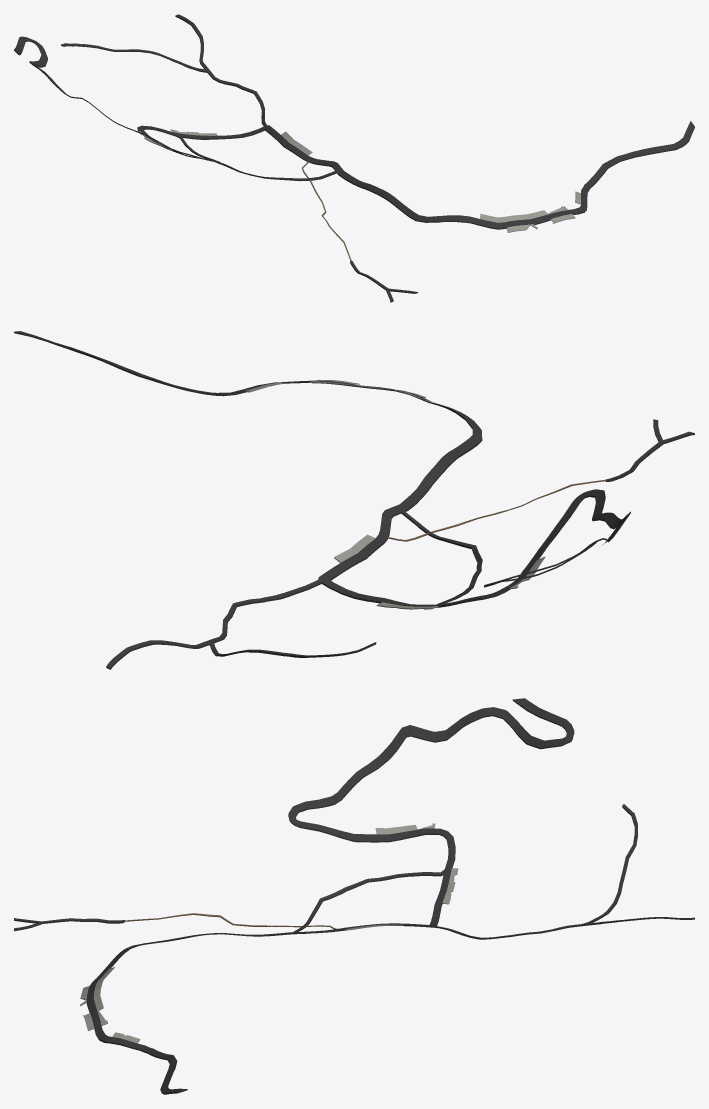
3 views of the same model, one above another, from view 1: azimuth 30°, elevation 25°; view 2: azimuth 150°, elevation 25°; view 3: azimuth 270°, elevation 25° (orthographic). The views are drawn at different scales.
Size of the model in its own units: 587 by 131 by 583.
